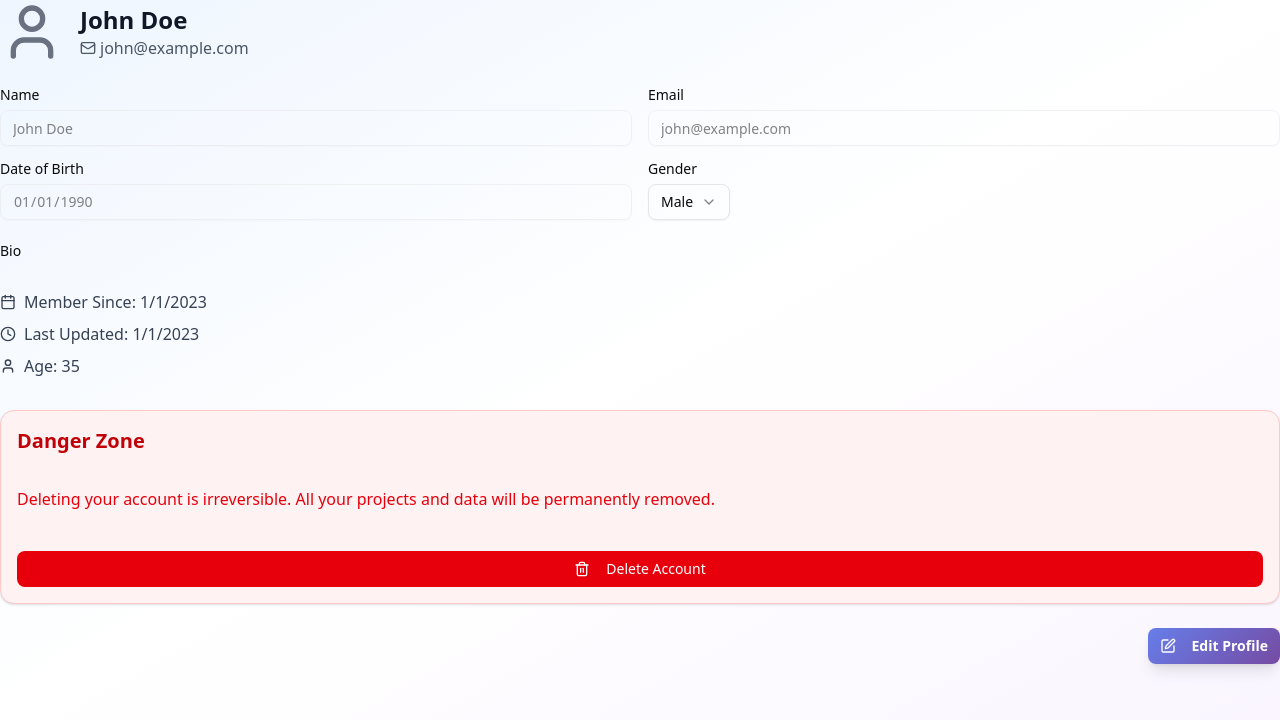
Test: ProfileEditForm Component › shows delete confirmation modal
Click the button "Delete Account". click: (640, 569)
box: [17,551,1263,587]
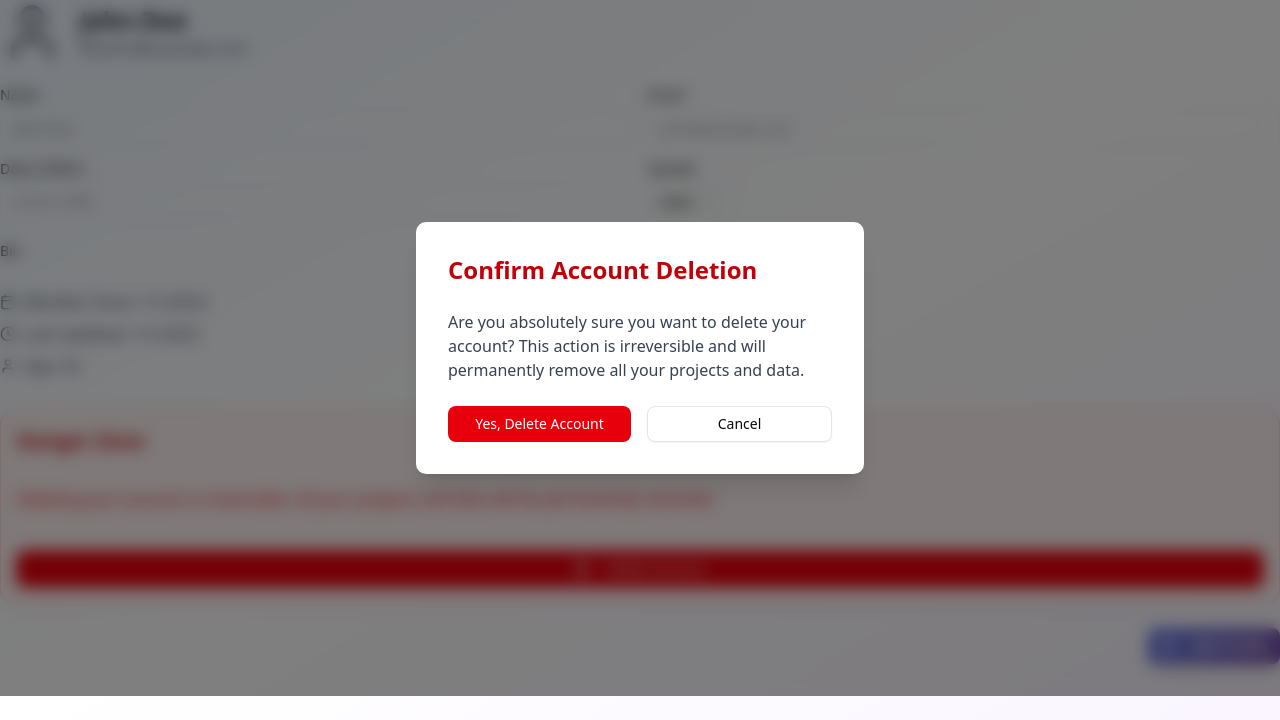
Expected: the heading "Confirm Account Deletion" is shown, [448,253,757,286]
Expected: the text "Are you absolutely sure" is shown, [448,311,806,381]
